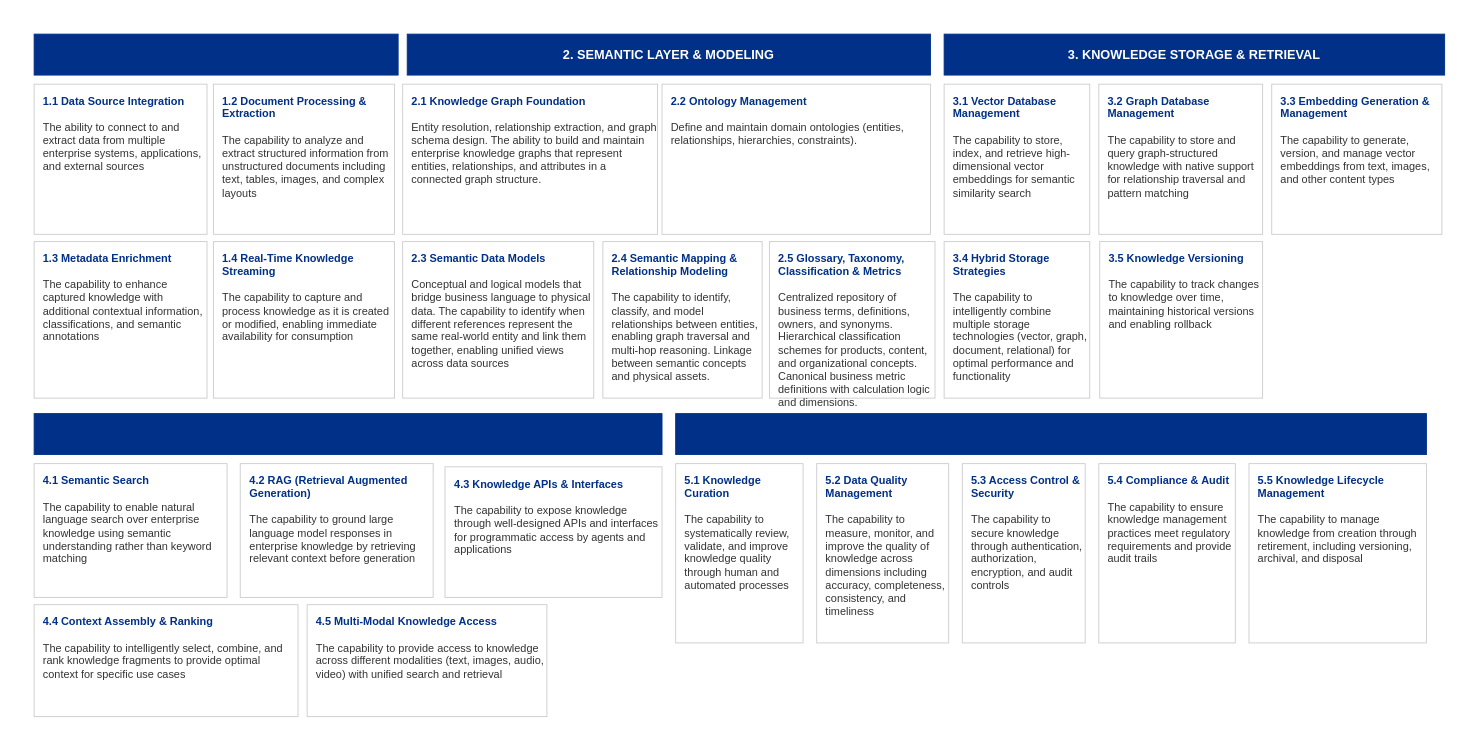
The diagram is 1469 pixels wide and 741 high, and some of its shapes have lost their labels. The shapes that lost their labels are listed below. From the top down, each one's centre as x and y in pixels, then its label:
At point (215, 54): "1. DATA MANAGEMENT".
At point (347, 434): "4. KNOWLEDGE ACCESS & DELIVERY".
At point (1050, 434): "5. KNOWLEDGE GOVERNANCE & QUALITY".
